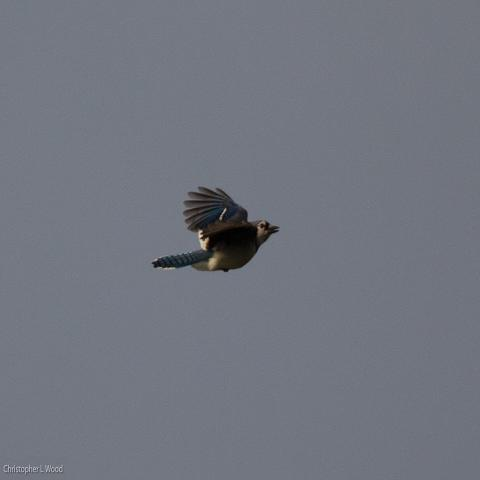bird: (150, 182, 280, 275)
